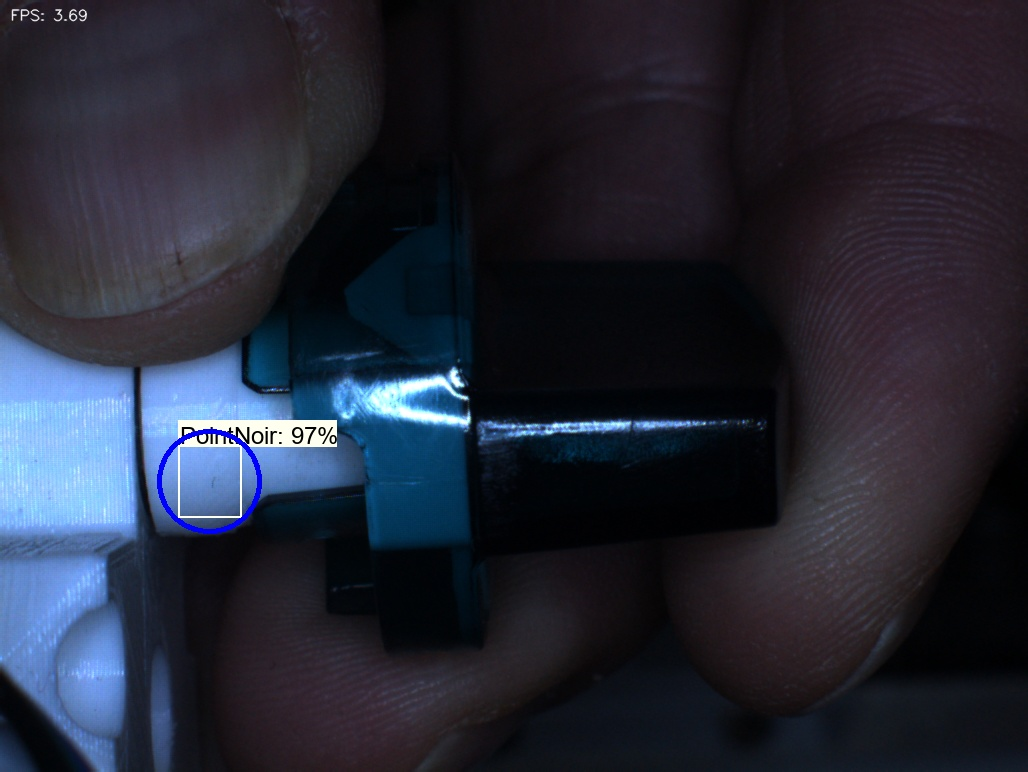DentOk: (311, 238, 392, 344)
